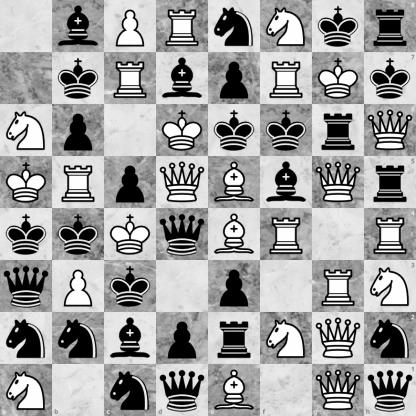B: (209, 364, 260, 416), (209, 157, 260, 208), (209, 209, 260, 260)
K: (1, 157, 52, 208), (105, 209, 156, 260), (157, 105, 208, 156), (313, 53, 364, 104)
N: (0, 364, 52, 416), (364, 260, 416, 312), (1, 105, 52, 156), (261, 1, 312, 52), (261, 313, 312, 364)
P: (53, 261, 104, 312), (105, 1, 156, 52)
Q: (312, 364, 364, 416), (364, 104, 416, 156), (157, 157, 208, 208), (313, 157, 364, 208), (313, 313, 364, 364)
R: (364, 209, 416, 260), (53, 157, 104, 208), (105, 53, 156, 104), (157, 1, 208, 52), (261, 53, 312, 104), (261, 209, 312, 260), (313, 261, 364, 312)
b: (53, 1, 104, 52), (105, 313, 156, 364), (157, 53, 208, 104), (261, 157, 312, 208)
board: (0, 0, 415, 415)
k: (364, 52, 416, 104), (1, 209, 52, 260), (53, 53, 104, 104), (53, 209, 104, 260), (105, 261, 156, 312), (209, 105, 260, 156), (261, 105, 312, 156), (313, 1, 364, 52)
n: (104, 364, 156, 416), (364, 312, 416, 364), (1, 313, 52, 364), (53, 313, 104, 364), (209, 1, 260, 52)
p: (53, 105, 104, 156), (105, 157, 156, 208), (157, 313, 208, 364), (209, 53, 260, 104), (209, 261, 260, 312)
q: (156, 364, 209, 416), (364, 364, 416, 416), (1, 261, 52, 312), (157, 209, 208, 260)
r: (364, 156, 416, 209), (364, 0, 416, 52), (209, 313, 260, 364), (313, 105, 364, 156)
